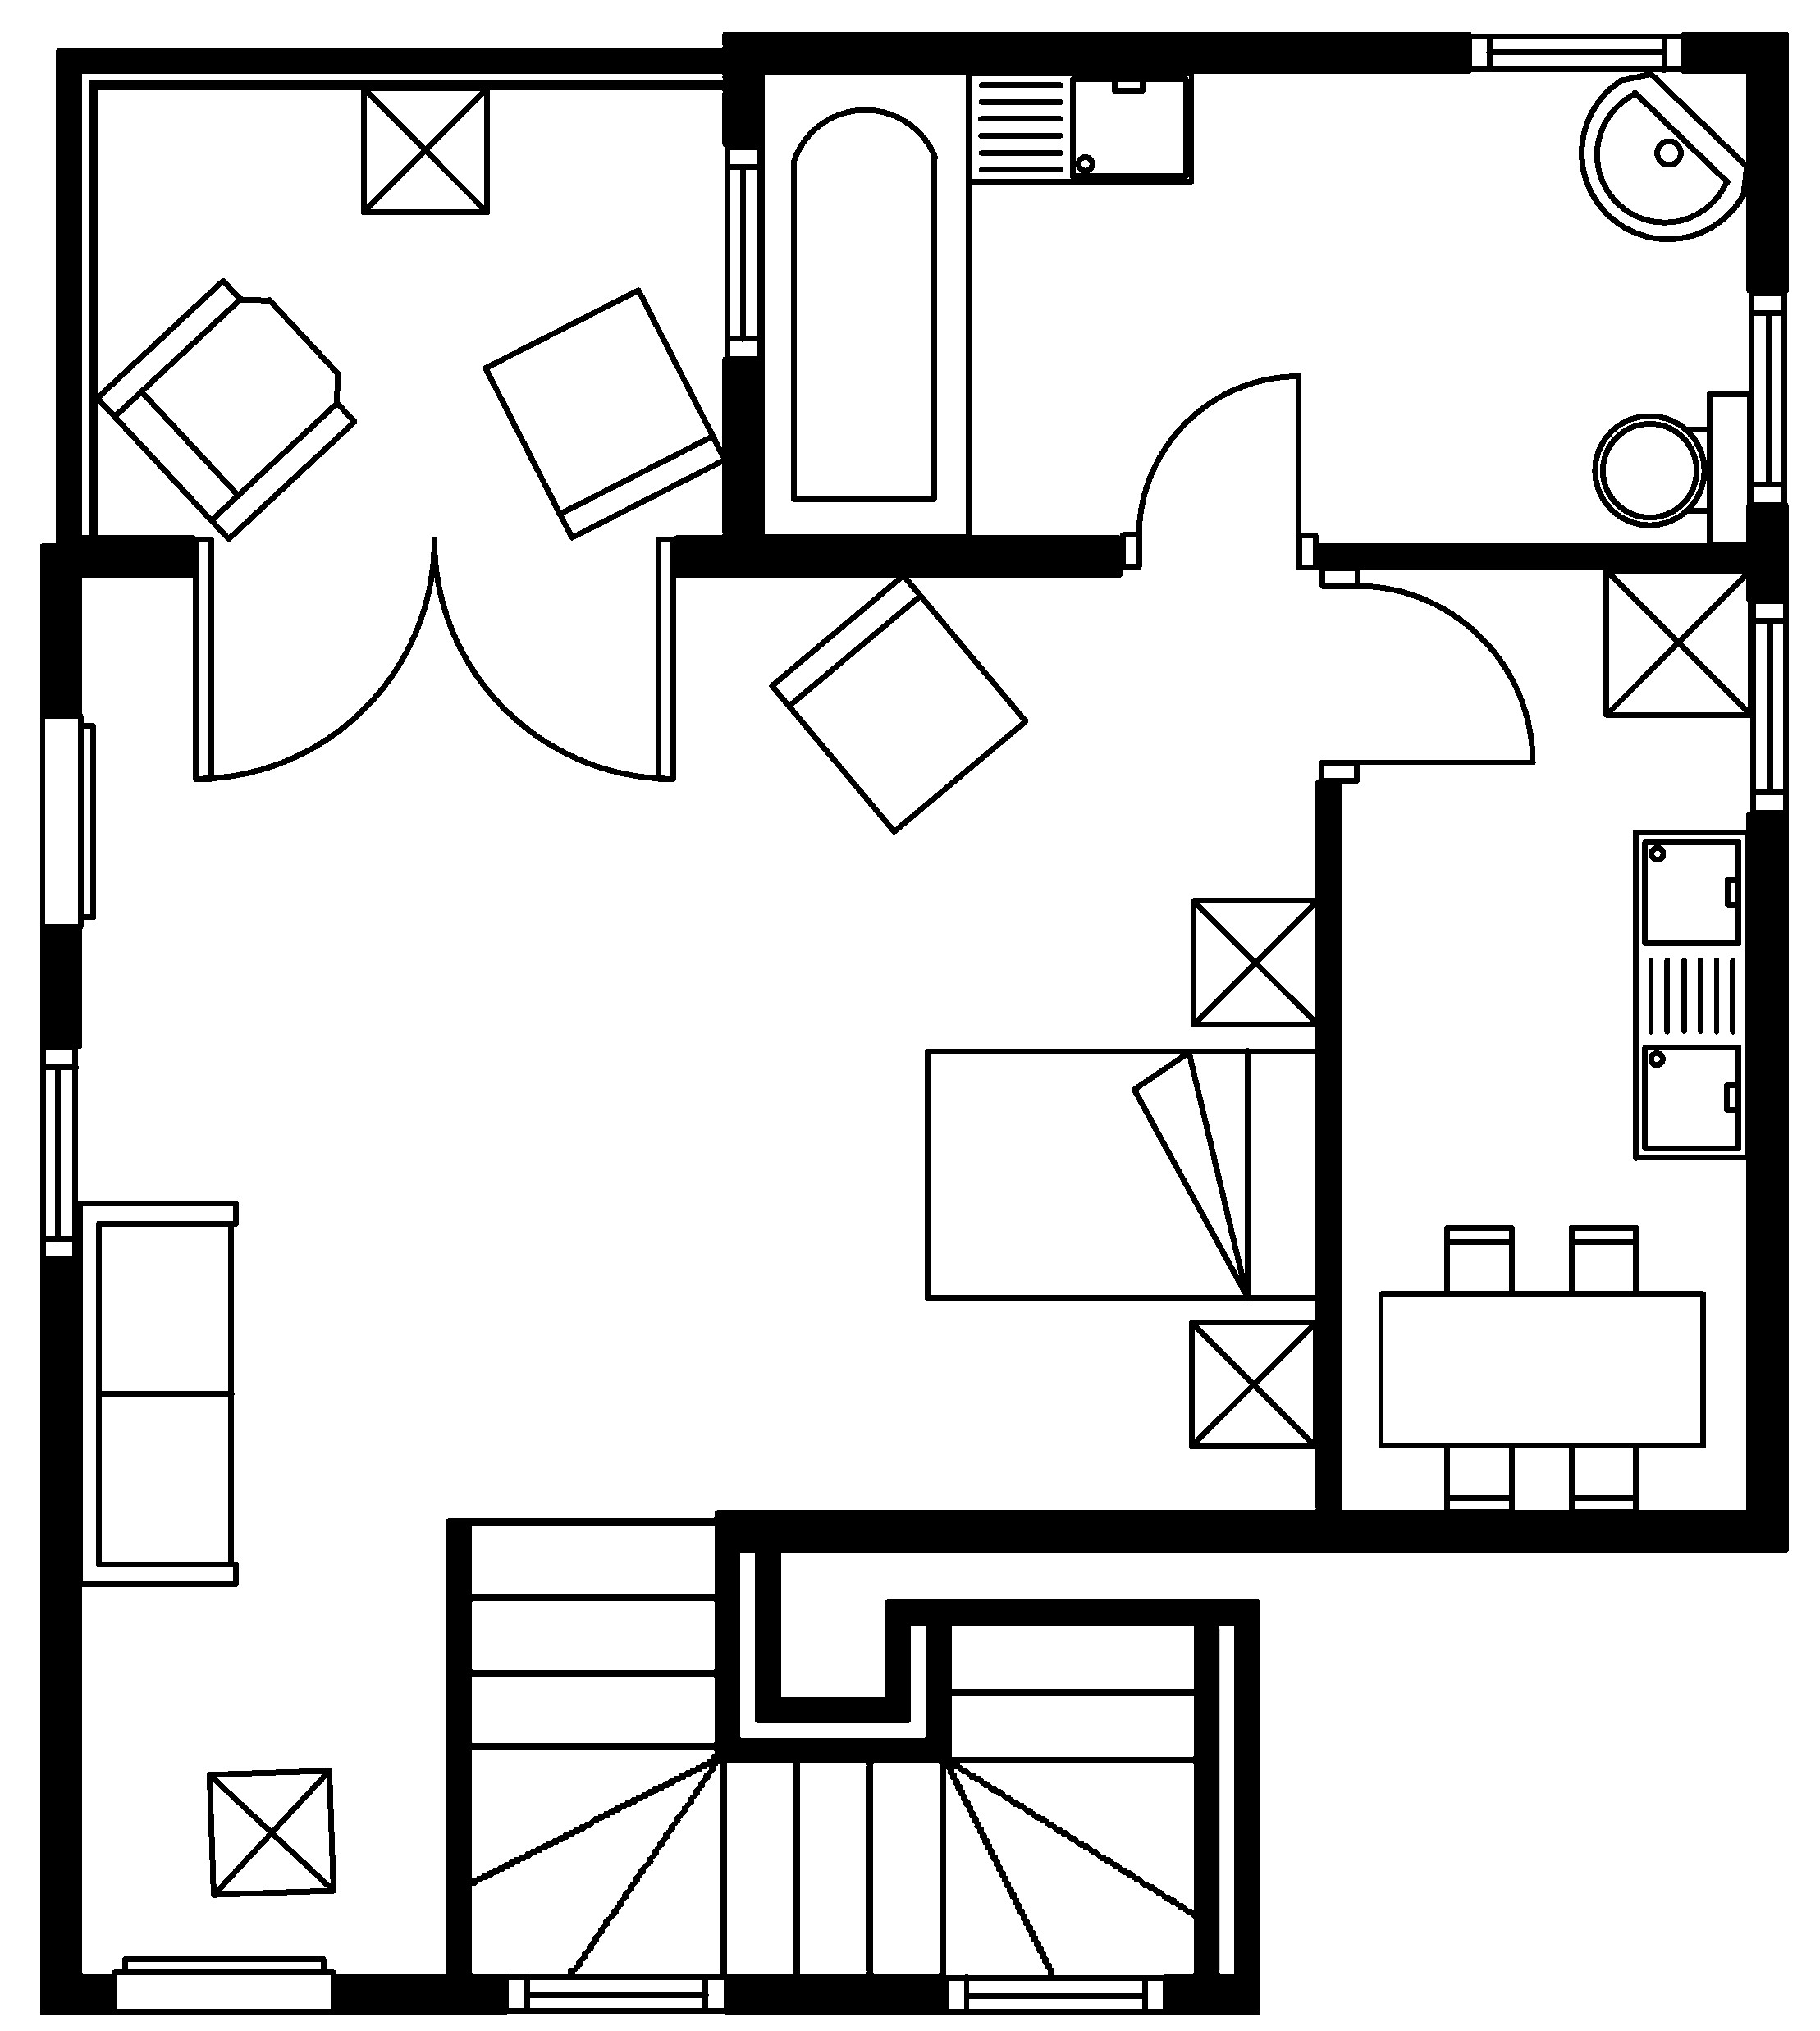armchair: (93, 276, 358, 543)
bed: (922, 1047, 1321, 1302)
coffee_table: (1602, 566, 1753, 719), (1186, 1318, 1319, 1449), (1189, 896, 1321, 1028), (206, 1766, 337, 1897), (358, 84, 490, 214)
dining_table: (1376, 1223, 1706, 1516)
large_sink: (1592, 388, 1753, 548)
large_sofa: (76, 1198, 239, 1586)
sink: (964, 69, 1195, 184)
small_sink: (1578, 70, 1750, 241)
small_sofa: (768, 571, 1028, 835), (481, 286, 727, 541)
tub: (757, 69, 971, 539)
twin_sink: (1630, 828, 1750, 1161)
